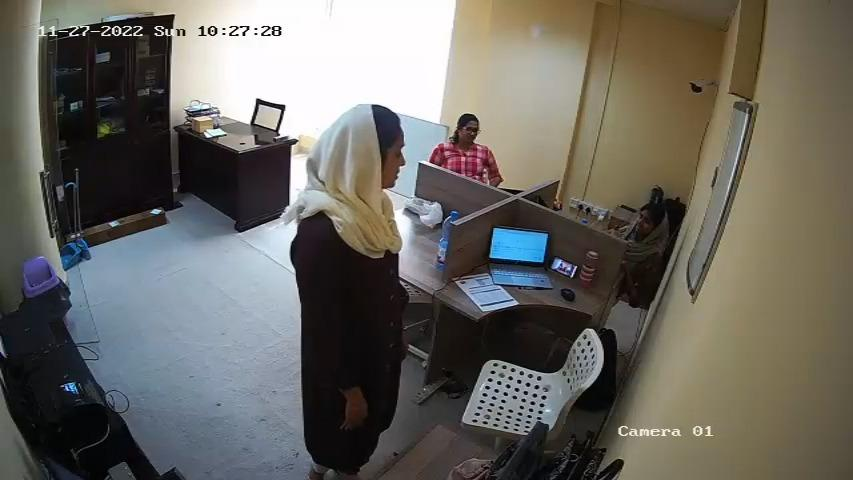no_apron: (304, 203, 401, 382)
